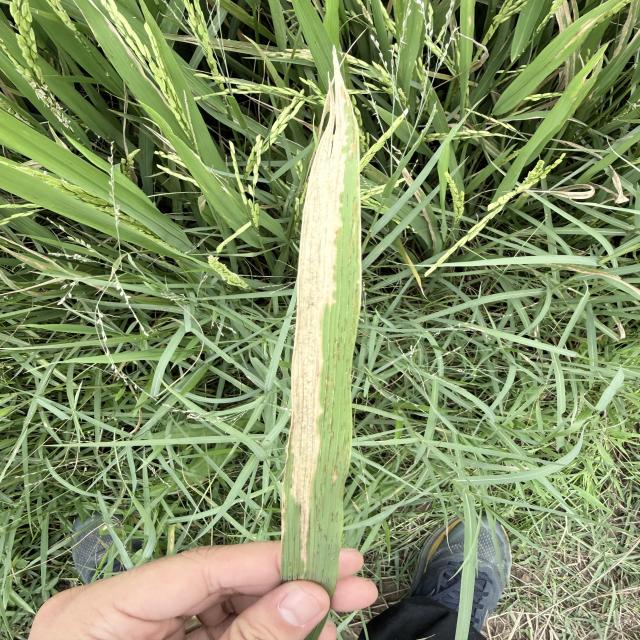Chay bia la: (289, 49, 358, 570)
